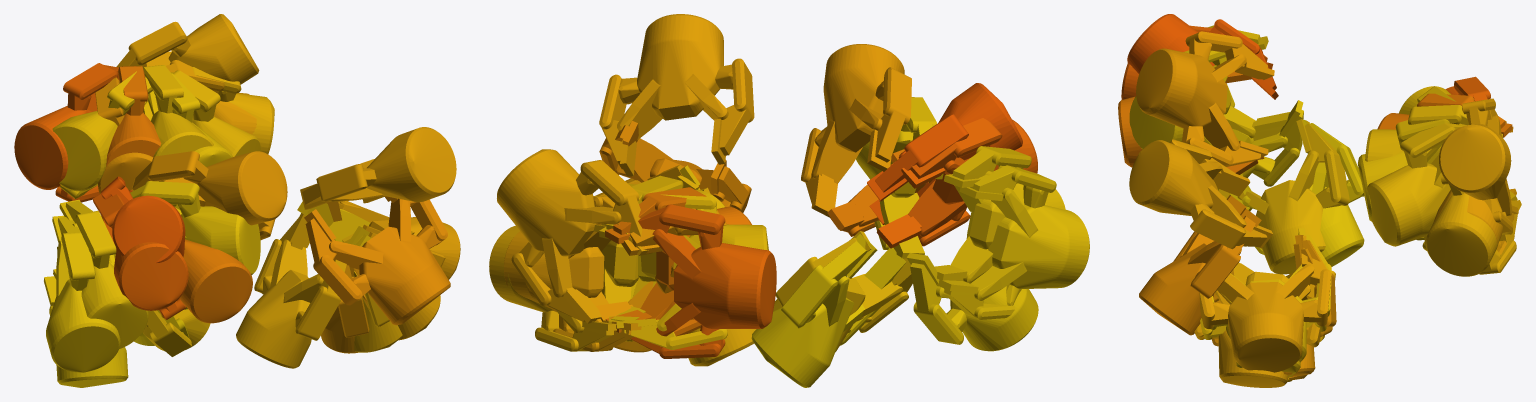
3 views of the same model, side by side, from view 1: azimuth 30°, elevation 25°; view 2: azimuth 150°, elevation 25°; view 3: azimuth 270°, elevation 25° (orthographic). The views are drawn at different scales.
Parts seen in each view (by area): view 1: canard_grasp0, canard_grasp6, canard_grasp4, manette_grasp3, manette_grasp6, kirby_grasp4, kirby_grasp0, manette_grasp1, manette_grasp5, manette_grasp7, manette_grasp2, kirby_grasp8 (+15 smaller); view 2: canard_grasp4, kirby_grasp4, kirby_grasp0, manette_grasp6, manette_grasp3, manette_grasp9, manette_grasp1, manette_grasp8, manette_grasp0, manette_grasp5, kirby_grasp3, canard_grasp0 (+10 smaller); view 3: manette_grasp3, canard_grasp3, canard_grasp4, manette_grasp4, kirby_grasp6, kirby_grasp4, canard_grasp0, kirby_grasp5, manette_grasp9, manette_grasp0, canard_grasp5, manette_grasp8 (+15 smaller).
Part boxes in pixels (bbox=[...]): canard_grasp0: bbox=[304, 196, 450, 325]; canard_grasp6: bbox=[236, 213, 346, 368]; canard_grasp4: bbox=[300, 127, 456, 209]; manette_grasp3: bbox=[131, 151, 287, 239]; manette_grasp6: bbox=[44, 215, 120, 372]; kirby_grasp4: bbox=[116, 14, 259, 84]; kirby_grasp0: bbox=[14, 63, 119, 202]; manette_grasp1: bbox=[92, 193, 188, 319]; manette_grasp5: bbox=[53, 199, 148, 348]; manette_grasp7: bbox=[130, 181, 260, 309]; manette_grasp2: bbox=[180, 239, 252, 323]; kirby_grasp8: bbox=[52, 71, 152, 198]; canard_grasp4: bbox=[599, 14, 754, 176]; kirby_grasp4: bbox=[497, 149, 652, 323]; kirby_grasp0: bbox=[630, 204, 776, 358]; manette_grasp6: bbox=[936, 165, 1089, 319]; manette_grasp3: bbox=[801, 44, 911, 217]; manette_grasp9: bbox=[751, 234, 906, 387]; manette_grasp1: bbox=[876, 118, 1037, 248]; manette_grasp8: bbox=[906, 185, 1038, 351]; manette_grasp0: bbox=[867, 83, 1022, 225]; manette_grasp5: bbox=[934, 146, 1065, 283]; kirby_grasp3: bbox=[504, 196, 641, 351]; canard_grasp0: bbox=[599, 121, 751, 212]; manette_grasp3: bbox=[1136, 31, 1274, 166]; canard_grasp3: bbox=[1199, 235, 1331, 372]; canard_grasp4: bbox=[1129, 139, 1272, 249]; manette_grasp4: bbox=[1218, 119, 1349, 274]; kirby_grasp6: bbox=[1365, 123, 1466, 250]; kirby_grasp4: bbox=[1439, 98, 1518, 232]; canard_grasp0: bbox=[1139, 195, 1261, 335]; kirby_grasp5: bbox=[1426, 174, 1521, 276]; manette_grasp9: bbox=[1229, 120, 1364, 266]; manette_grasp0: bbox=[1127, 14, 1278, 99]; canard_grasp5: bbox=[1194, 284, 1320, 387]; manette_grasp8: bbox=[1217, 100, 1303, 189].
Size of the model in its own units: 0.5531 by 0.3143 by 0.4429.
